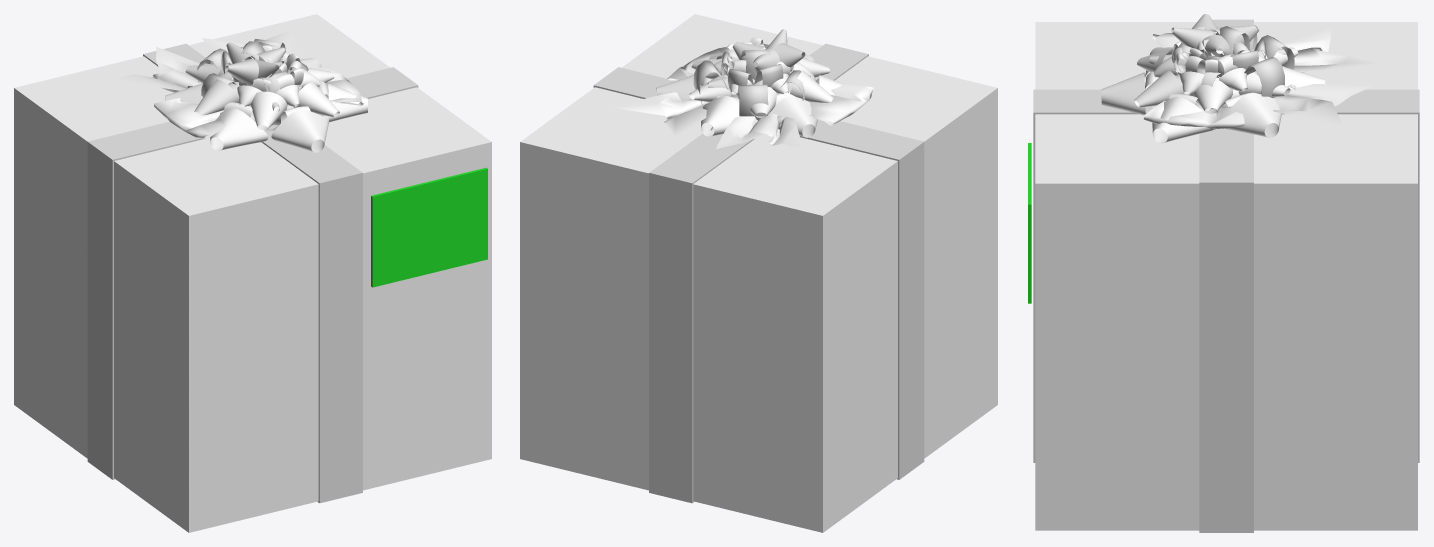
Rendered from caja_base.glb.
3 renders of one model, left to right at view 1: azimuth 30°, elevation 25°; view 2: azimuth 150°, elevation 25°; view 3: azimuth 270°, elevation 25°, orthographic. The views are drawn at different scales.
Visible parts, largest first — view 1: Papel_Frontal, Papel_Izquierdo, Papel_Superior, Cinta2, Cinta1, Lazodorado, Sobre, Lazonormal, Solapa, Lazoestrella, Lazoflor; view 2: Papel_Trasero, Papel_Izquierdo, Papel_Superior, Cinta2, Cinta1, Lazodorado, Lazonormal, Lazoflor, Lazoestrella; view 3: Papel_Derecho, Papel_Superior, Cinta1, Lazodorado, Lazonormal, Cinta2, Lazoflor, Lazoestrella, Sobre.
Part boxes in pixels (left/top/right/bottom): Papel_Frontal: left=189, top=142, right=491, bottom=532; Papel_Izquierdo: left=14, top=88, right=188, bottom=532; Papel_Superior: left=14, top=14, right=491, bottom=215; Cinta2: left=143, top=43, right=362, bottom=503; Cinta1: left=87, top=67, right=418, bottom=479; Lazodorado: left=164, top=45, right=367, bottom=152; Sobre: left=371, top=167, right=487, bottom=287; Lazonormal: left=113, top=29, right=363, bottom=139; Solapa: left=374, top=169, right=487, bottom=213; Lazoestrella: left=203, top=42, right=303, bottom=125; Lazoflor: left=187, top=39, right=308, bottom=125; Papel_Trasero: left=520, top=142, right=822, bottom=532; Papel_Izquierdo: left=823, top=88, right=997, bottom=532; Papel_Superior: left=520, top=14, right=997, bottom=215; Cinta2: left=649, top=43, right=868, bottom=503; Cinta1: left=593, top=67, right=924, bottom=479; Lazodorado: left=656, top=37, right=842, bottom=137; Lazonormal: left=612, top=47, right=874, bottom=148; Lazoflor: left=693, top=44, right=804, bottom=125; Lazoestrella: left=707, top=29, right=806, bottom=130; Papel_Derecho: left=1035, top=183, right=1417, bottom=530; Papel_Superior: left=1035, top=22, right=1417, bottom=183; Cinta1: left=1199, top=19, right=1253, bottom=532; Lazodorado: left=1101, top=31, right=1325, bottom=143; Lazonormal: left=1143, top=28, right=1378, bottom=129; Cinta2: left=1033, top=89, right=1419, bottom=462; Lazoflor: left=1172, top=26, right=1296, bottom=108; Lazoestrella: left=1149, top=14, right=1286, bottom=107; Sobre: left=1028, top=143, right=1031, bottom=303.
Size of what is drawn, in the model's own units: 1.06 by 1.28 by 1.08.
